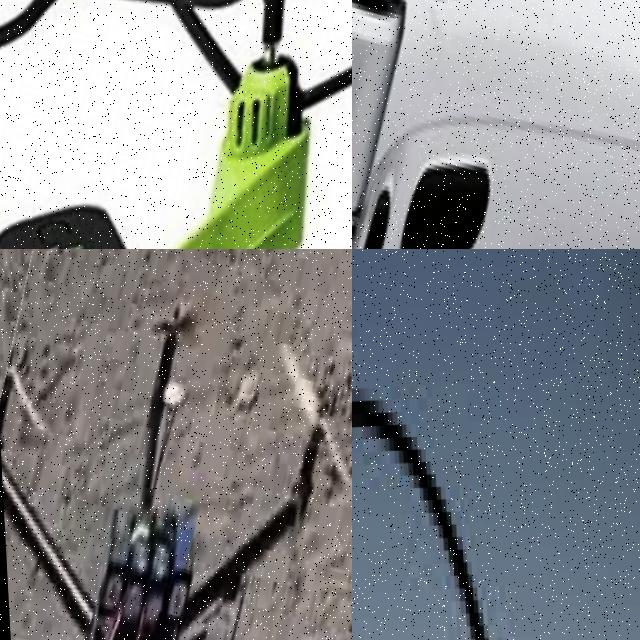drone: (0, 249, 352, 640), (0, 0, 352, 249), (352, 0, 640, 249)
